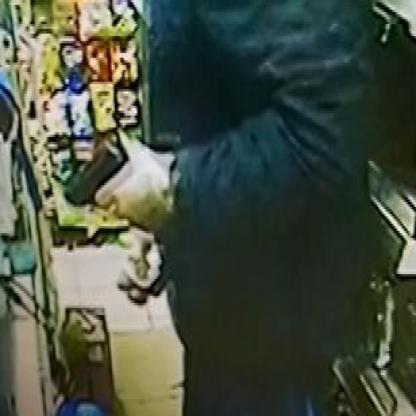gun: (56, 137, 138, 209)
